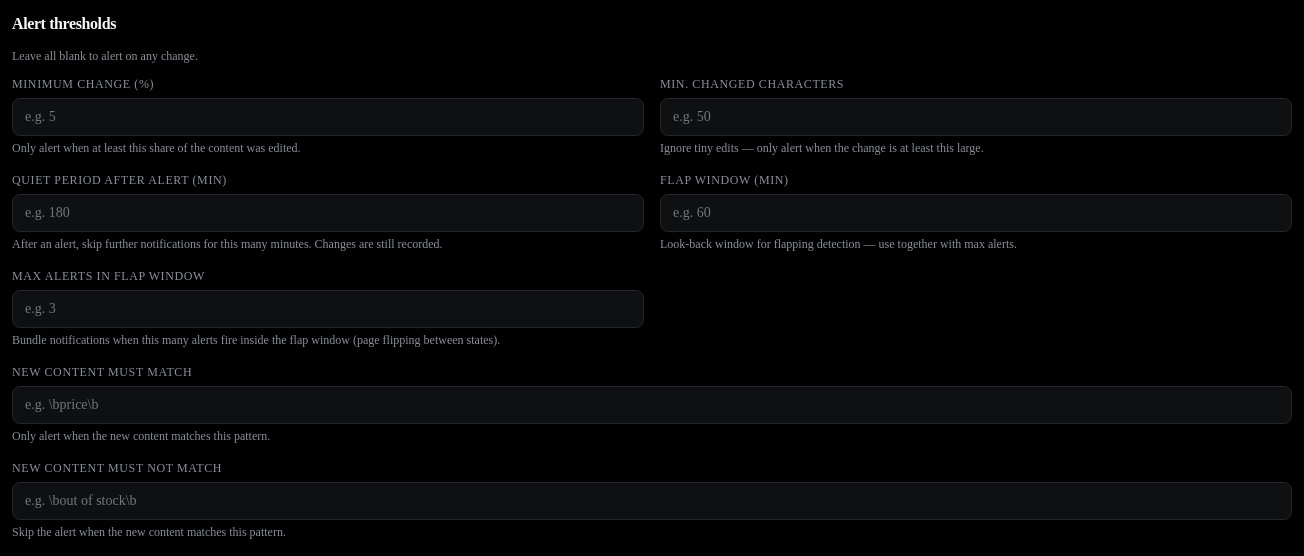
Test: ThresholdEditor flap_max_alerts (#64) › sets min=1, shows an error for 0 without committing, and commits >= 1
The image size is (1304, 556).
Later steps or results of the test are not shown.
In the number field labelled "Max alerts in flap window": {"x": 328, "y": 309} [12,290,644,328], type "0"
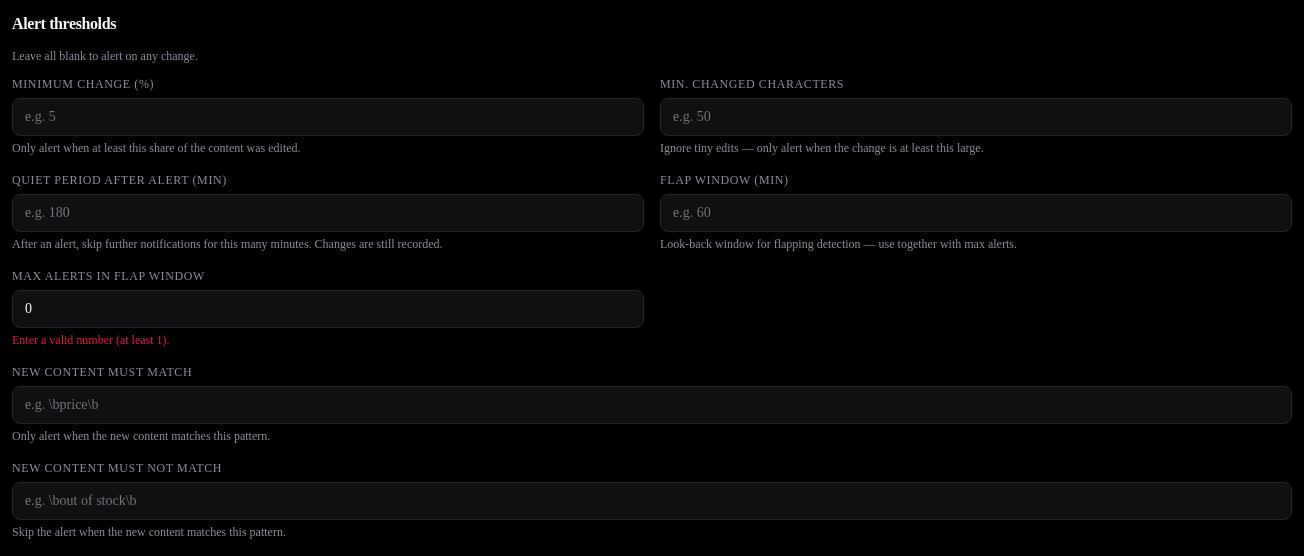
Expected: the text "Enter a valid number (at least 1)." is shown, [12,333,170,347]
